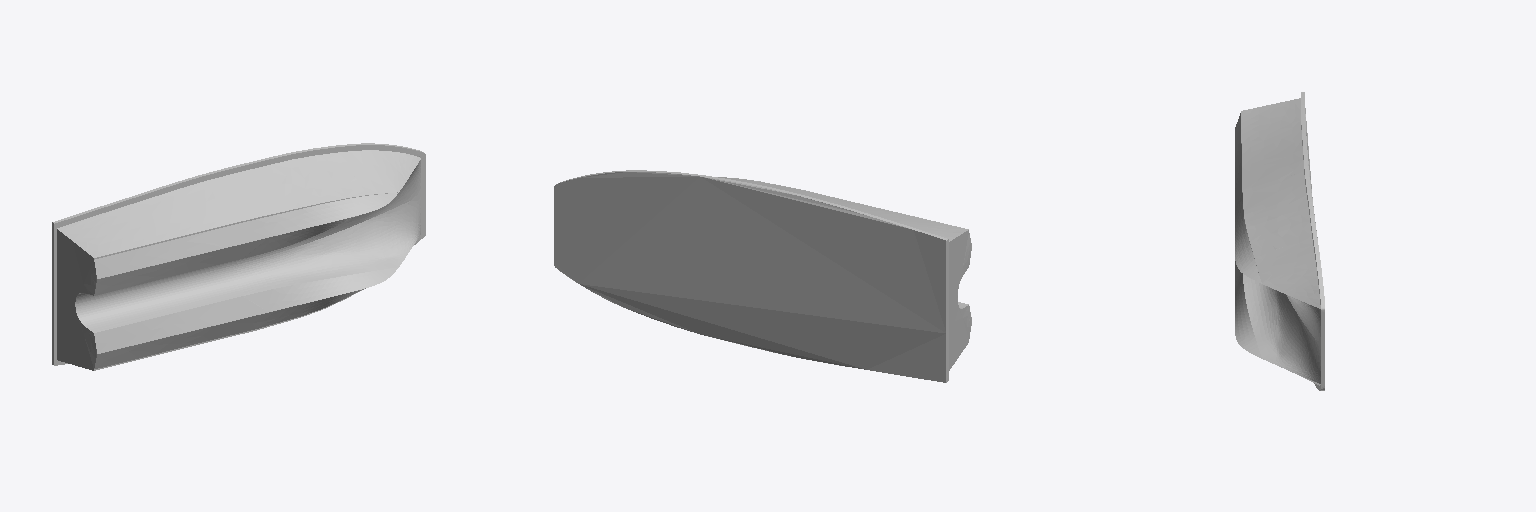
File: zest_covered_fix.obj
The picture shows the model from 3 angles: view 1: azimuth 30°, elevation 25°; view 2: azimuth 150°, elevation 25°; view 3: azimuth 270°, elevation 25°; orthographic projection.
Parts seen in each view (by area): view 1: ZEST_-_Final; view 2: ZEST_-_Final; view 3: ZEST_-_Final.
Boxes of the visible parts, x1,y1,x2,y2 form: ZEST_-_Final: [52, 143, 425, 370]; ZEST_-_Final: [554, 170, 971, 382]; ZEST_-_Final: [1235, 92, 1324, 390].
Size of the model in its own units: 8.21 by 3.34 by 1.69.